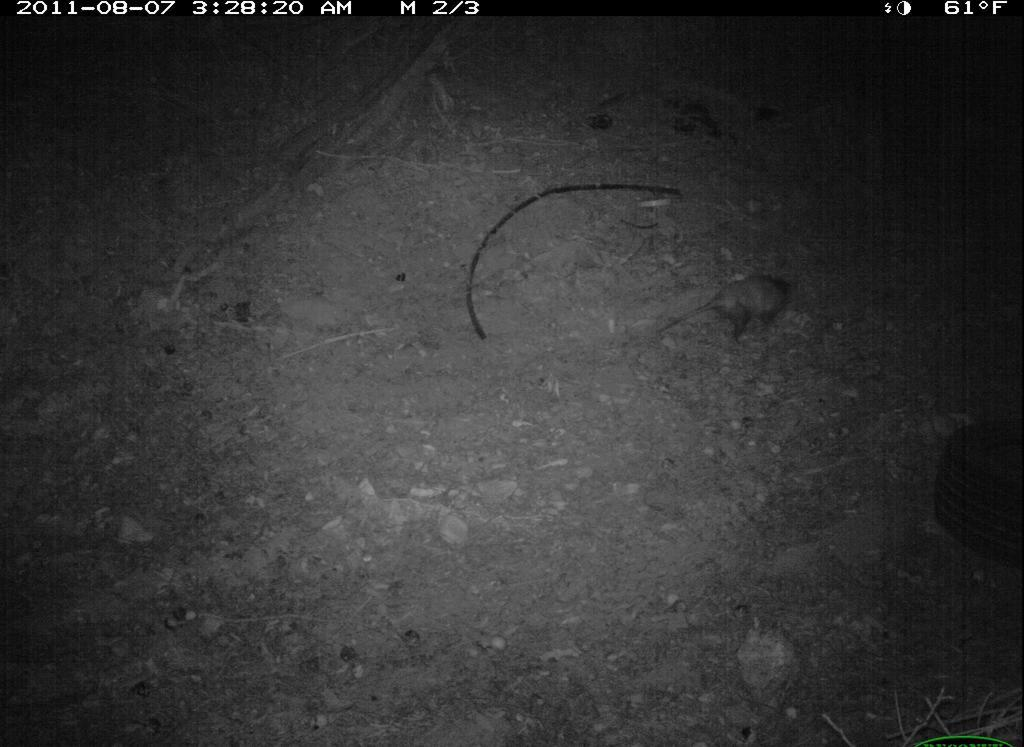opossum: (647, 264, 807, 355)
